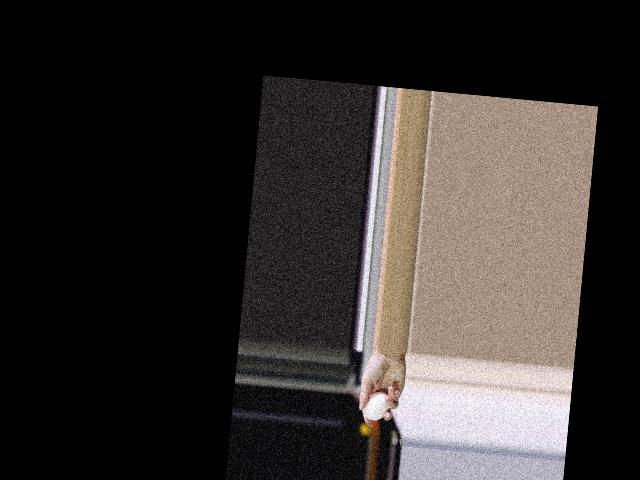egg: (363, 390, 390, 422)
